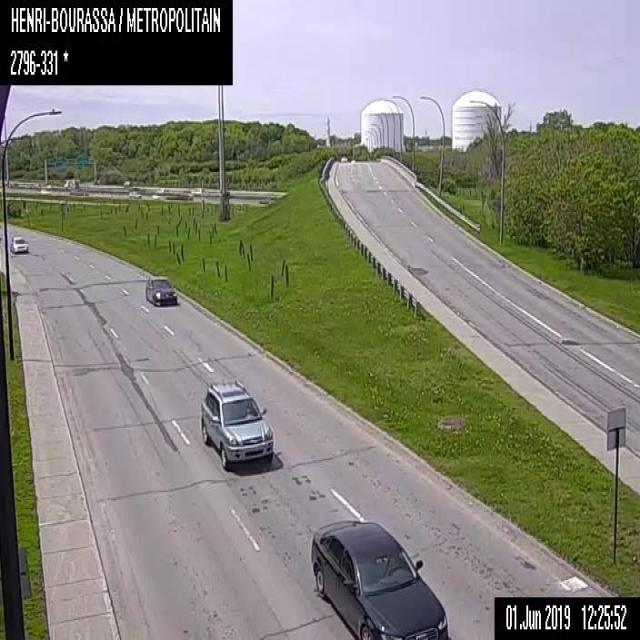vehicle: (308, 518, 446, 638), (198, 377, 275, 471), (145, 274, 177, 306), (9, 235, 28, 253)
